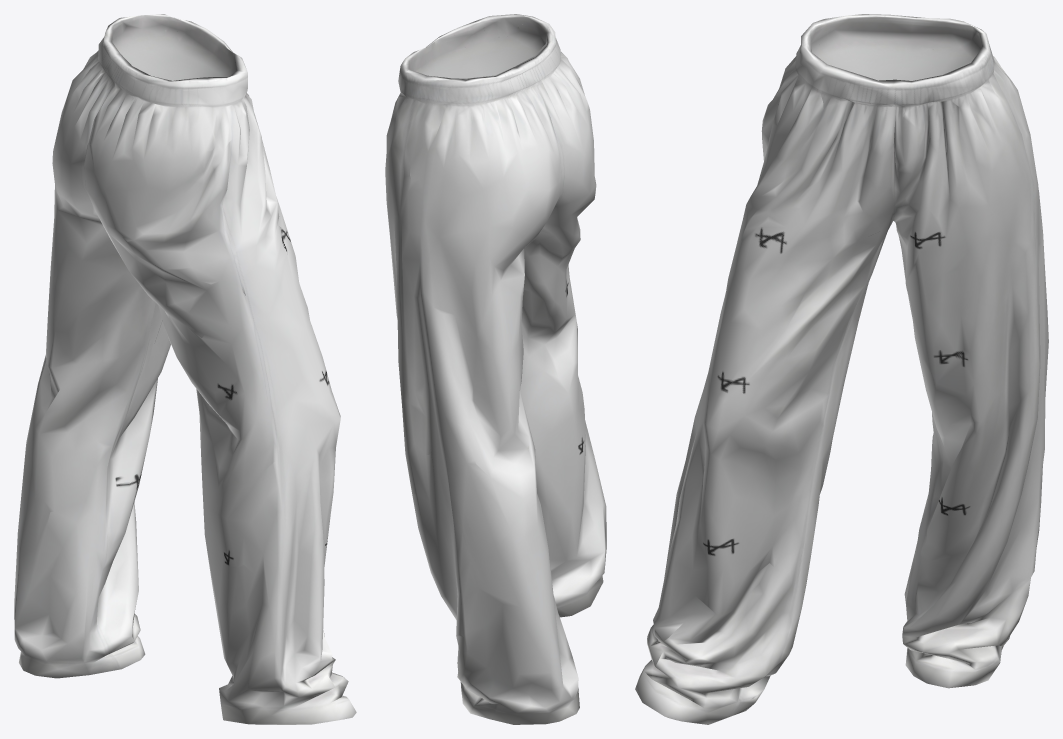
Rendered from white-sweatpants.glb.
The picture shows the model from 3 angles, left to right: view 1: azimuth 30°, elevation 25°; view 2: azimuth 150°, elevation 25°; view 3: azimuth 270°, elevation 25°; orthographic projection. The views are drawn at different scales.
Parts seen in each view (by area): view 1: vizcom_node_0; view 2: vizcom_node_0; view 3: vizcom_node_0.
Part boxes in pixels (x1=…): vizcom_node_0: x1=14, y1=14, x2=356, y2=724; vizcom_node_0: x1=385, y1=14, x2=606, y2=724; vizcom_node_0: x1=635, y1=14, x2=1048, y2=724.
Size of the model in its own units: 0.3473 by 1 by 0.5685.
Materials: 1 (1 with a texture image).
